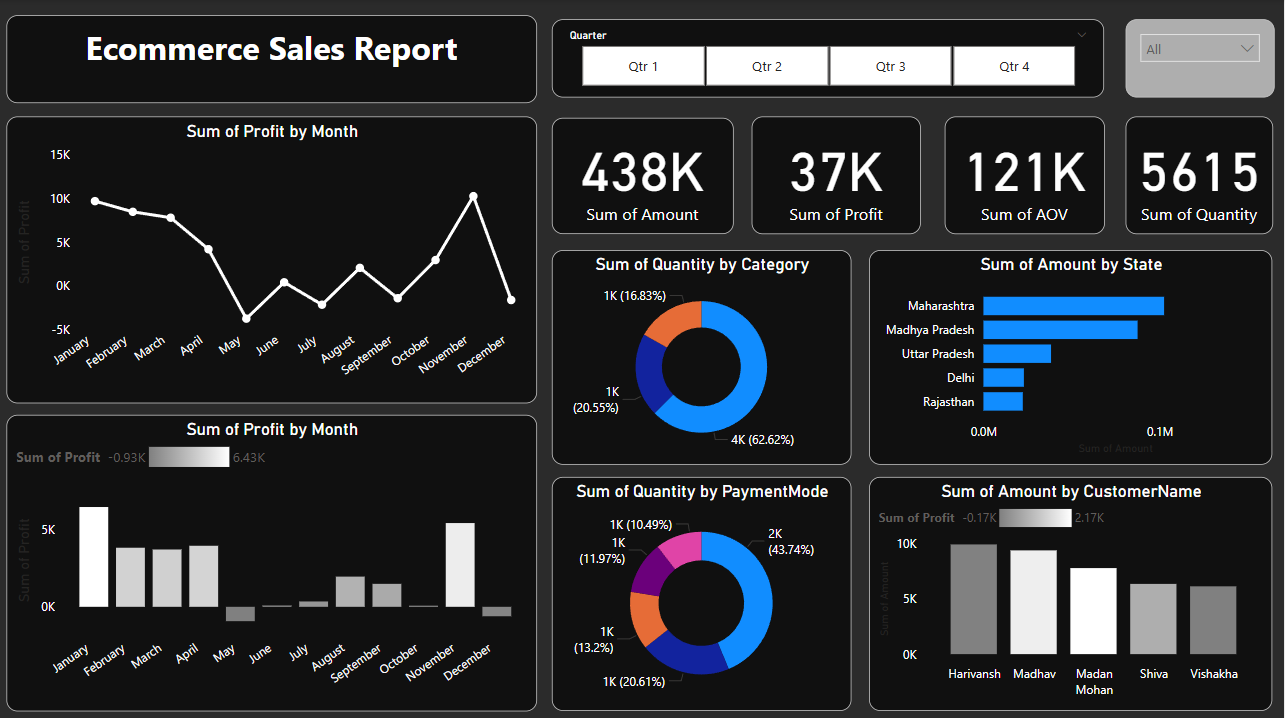

The dashboard page shown, as its layout file describes it:
{"tool":"powerbi","page":{"name":"Page 1","canvas":[1280,720],"ordinal":0},"visuals":[{"type":"textbox","box":[9.4,15.6,527.1,87.3],"z":0},{"type":"lineChart","fields":{"Y":["Details.Profit"],"Category":["Orders.Order Date.Variation.Date Hierarchy.Month"]},"box":[9.4,117,527.1,285.4],"z":1000},{"type":"columnChart","fields":{"Category":["Orders.Order Date.Variation.Date Hierarchy.Month"],"Y":["Details.Profit"]},"box":[9.4,413.3,527.1,294.8],"z":2000},{"type":"donutChart","fields":{"Category":["Details.Category"],"Y":["Details.Quantity"]},"box":[552.1,249.5,297.9,213.7],"z":3000},{"type":"donutChart","fields":{"Category":["Details.PaymentMode"],"Y":["Details.Quantity"]},"box":[552.1,475.7,297.9,232.4],"z":4000},{"type":"card","fields":{"Values":["Details.Amount"]},"box":[552.1,118.5,180.9,115.4],"z":5000},{"type":"card","fields":{"Values":["Details.AVG_OrderVal"]},"box":[942,117,159.1,117],"z":6000},{"type":"card","fields":{"Values":["Details.Profit"]},"box":[750.2,117,168.4,117],"z":7000},{"type":"card","fields":{"Values":["Details.Quantity"]},"box":[1121.3,117,146.6,117],"z":8000},{"type":"barChart","fields":{"Y":["Details.Amount"],"Category":["Orders.State"]},"box":[867.1,249.5,400.8,213.7],"z":9000},{"type":"columnChart","fields":{"Category":["Orders.CustomerName"],"Y":["Details.Amount"]},"box":[867.1,475.7,400.8,232.4],"z":10000},{"type":"slicer","fields":{"Values":["Orders.Order Date.Variation.Date Hierarchy.Quarter"]},"box":[552.1,20.3,549,78],"z":11000},{"type":"slicer","fields":{"Values":["Orders.State"]},"box":[1121.3,20.3,148.2,78],"z":12000}]}

Visuals, with their boxes in screenshot pixels (x1, y1, x2, y2), scaled from the page's 1280x720 canvas onto the 1285x718 screenshot:
textbox: bbox=(9, 16, 539, 103)
lineChart - Details.Profit x Orders.Order Date.Variation.Date Hierarchy.Month: bbox=(9, 117, 539, 401)
columnChart - Orders.Order Date.Variation.Date Hierarchy.Month x Details.Profit: bbox=(9, 412, 539, 706)
donutChart - Details.Category x Details.Quantity: bbox=(554, 249, 853, 462)
donutChart - Details.PaymentMode x Details.Quantity: bbox=(554, 474, 853, 706)
card - Details.Amount: bbox=(554, 118, 736, 233)
card - Details.AVG_OrderVal: bbox=(946, 117, 1105, 233)
card - Details.Profit: bbox=(753, 117, 922, 233)
card - Details.Quantity: bbox=(1126, 117, 1273, 233)
barChart - Details.Amount x Orders.State: bbox=(870, 249, 1273, 462)
columnChart - Orders.CustomerName x Details.Amount: bbox=(870, 474, 1273, 706)
slicer - Orders.Order Date.Variation.Date Hierarchy.Quarter: bbox=(554, 20, 1105, 98)
slicer - Orders.State: bbox=(1126, 20, 1274, 98)
